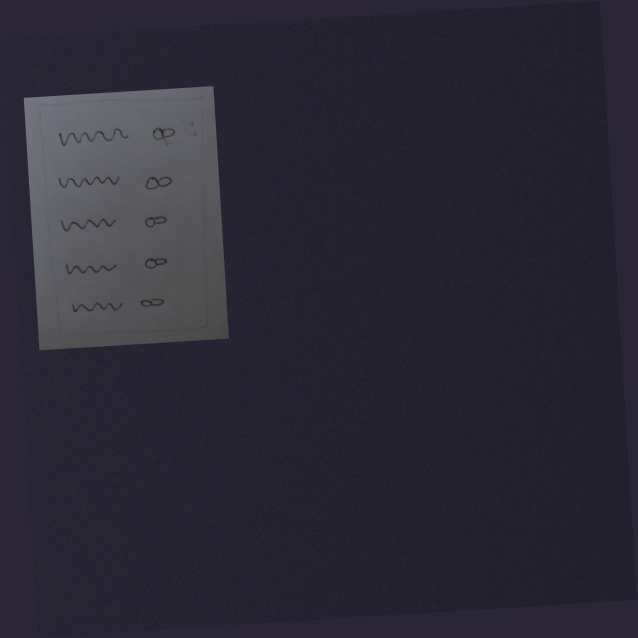switch: (139, 169, 178, 199), (144, 121, 181, 149), (138, 207, 172, 232), (137, 291, 170, 316), (141, 253, 173, 274)
text: (51, 122, 134, 154), (54, 170, 124, 198), (65, 295, 128, 322), (60, 257, 123, 282), (56, 212, 120, 235)
